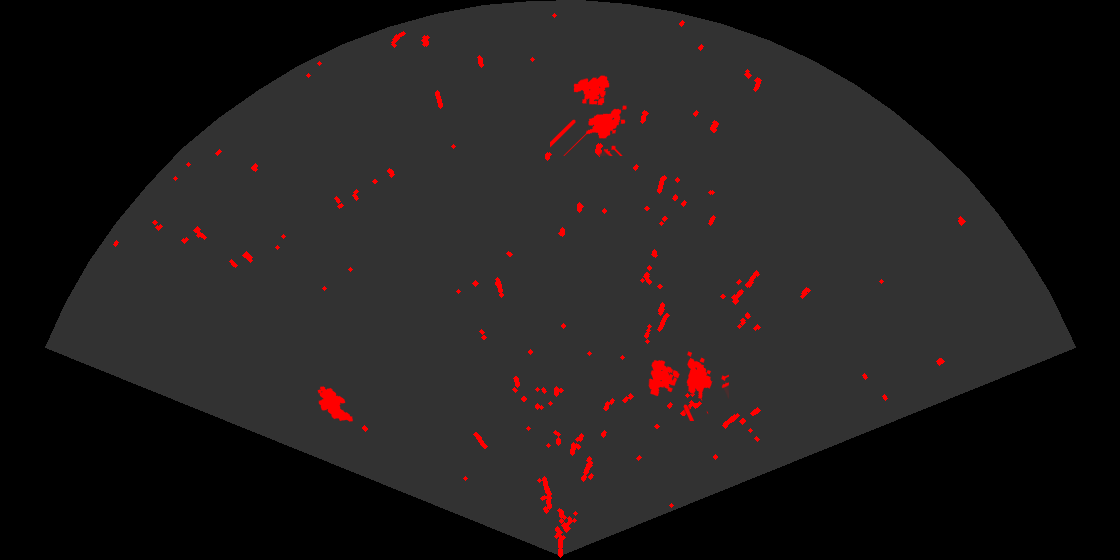AUV: (316, 385, 355, 423)
cage: (550, 74, 628, 156), (647, 350, 729, 421)
